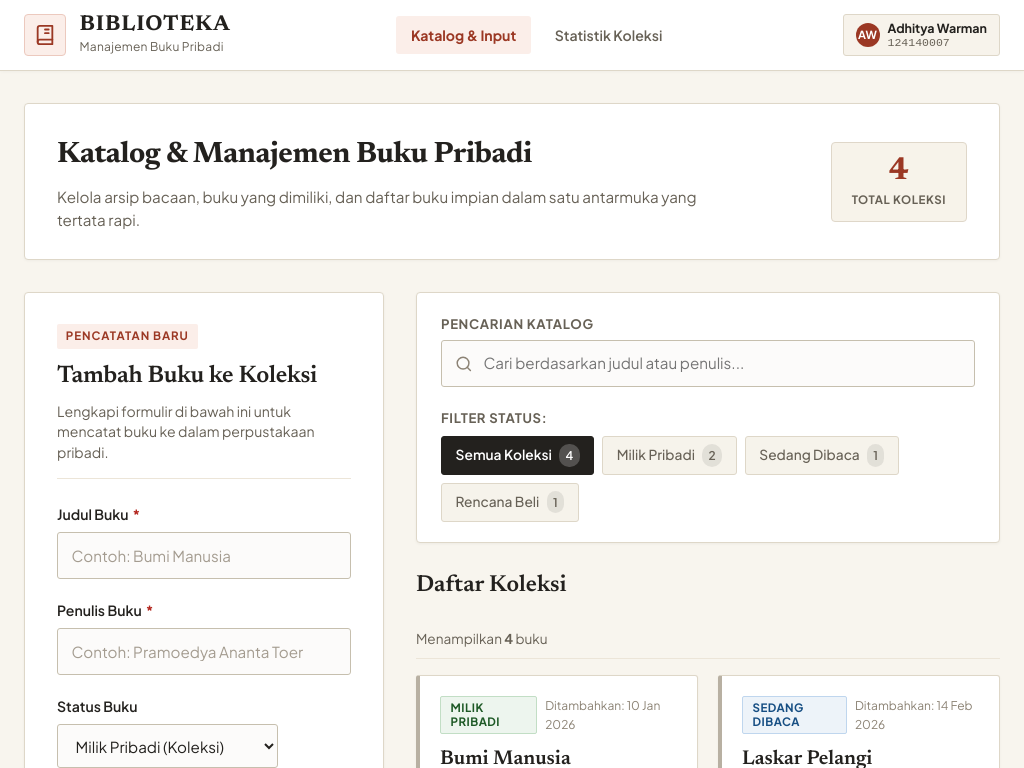
Test: Alur Integrasi Aplikasi (App Integration) › Menampilkan halaman utama, menambahkan buku baru, dan menghitung total
The image size is (1024, 768).
Check: the text "Biblioteka" is shown, box [80,14,231,37]
Note: Tambah buku baru
Type "Sitti Nurbaya" into the field labelled "Judul Buku *" at [204, 556], box [57,532,351,579]
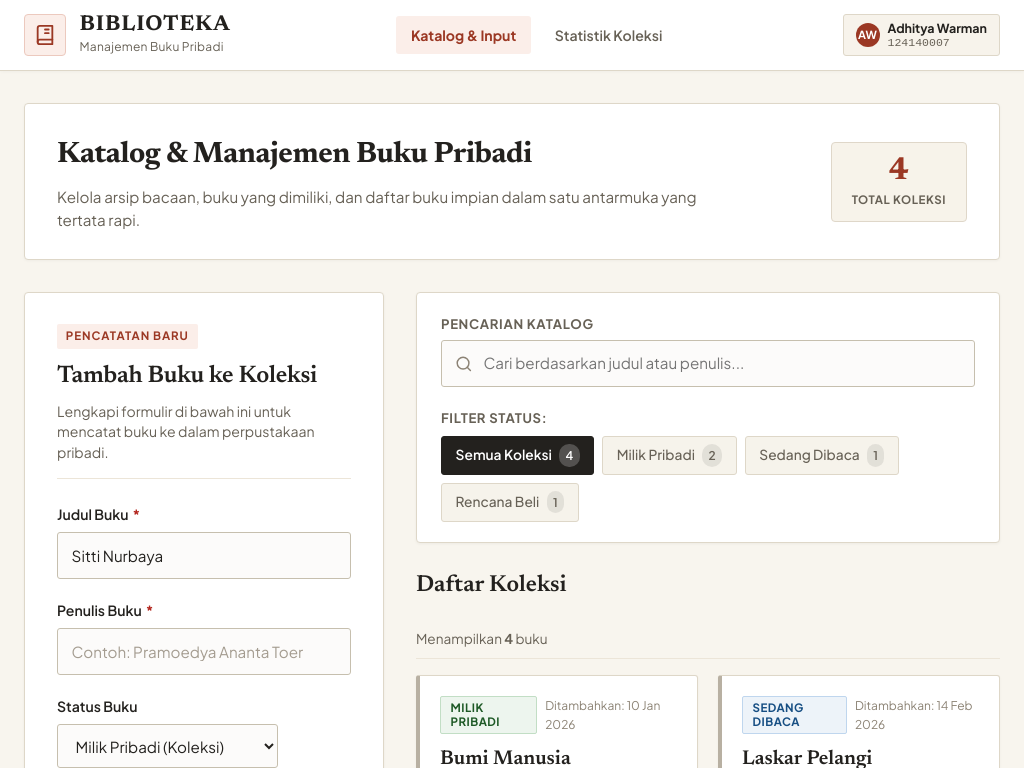
Type "Marah Rusli" into the field labelled "Penulis Buku *" at [204, 652], box [57,628,351,675]
(page scrolled)
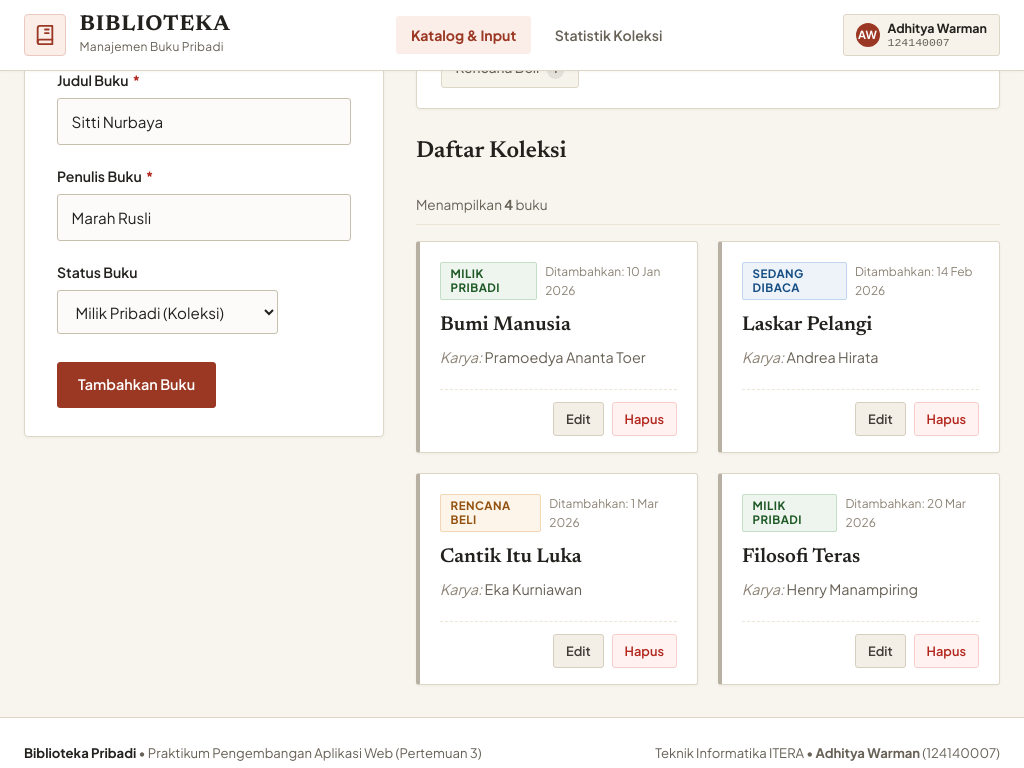
Click the button "Tambahkan Buku" at [137, 385], box [57,362,216,408]
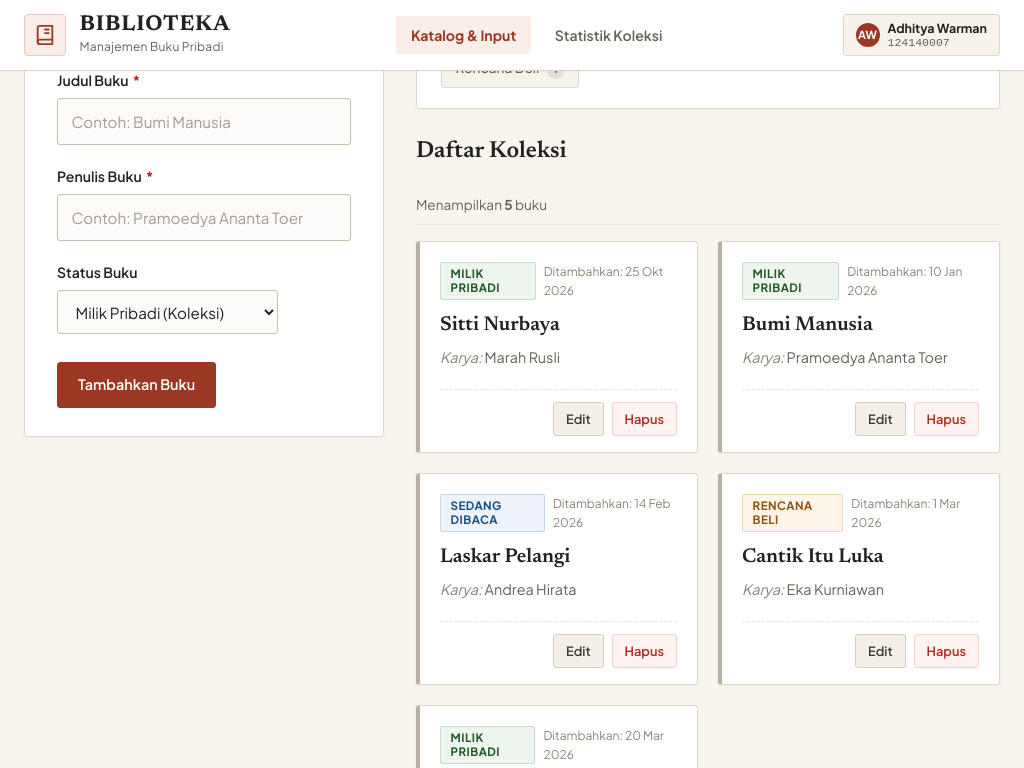
Check: the heading "Sitti Nurbaya" is shown, box [440,315,560,335]
Check: the text "Karya: Marah Rusli" is shown, box [440,348,560,366]
